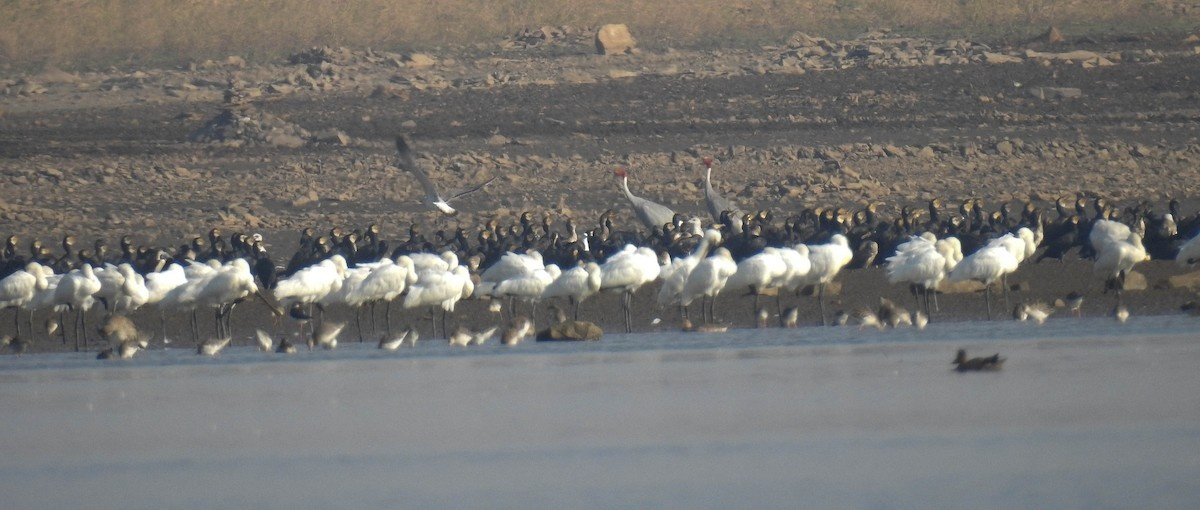crane: (601, 155, 676, 231), (695, 146, 742, 223)
